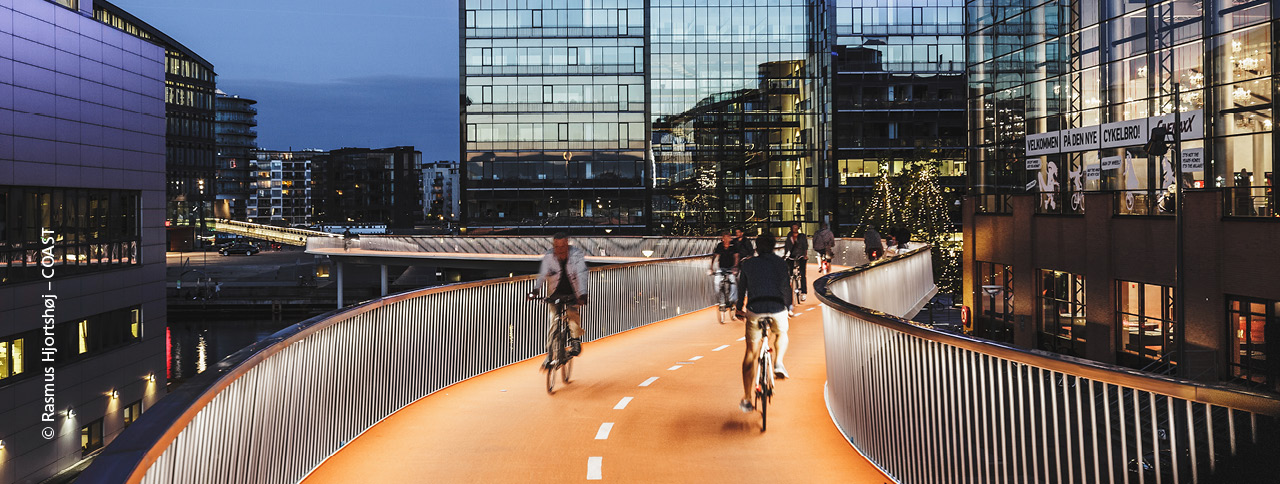commuter: (732, 231, 801, 440), (525, 238, 598, 396)
